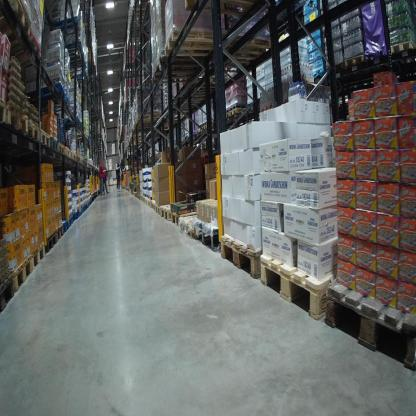pallet: (324, 268, 415, 373), (259, 246, 334, 322), (213, 29, 283, 66), (219, 232, 263, 282), (164, 27, 222, 62), (156, 49, 223, 76), (2, 0, 35, 45), (194, 219, 228, 256), (180, 1, 258, 17), (147, 64, 203, 84), (8, 37, 44, 67), (27, 80, 65, 107), (10, 256, 34, 297), (7, 102, 30, 141), (49, 13, 84, 38), (390, 37, 415, 67), (367, 43, 393, 71), (38, 94, 70, 115), (325, 58, 347, 83), (1, 273, 15, 312), (171, 208, 197, 229), (343, 53, 366, 76), (29, 241, 46, 272), (180, 212, 198, 238), (307, 66, 325, 88), (134, 113, 164, 126), (160, 201, 177, 222), (229, 106, 251, 122), (28, 116, 39, 145), (44, 232, 58, 254), (39, 126, 51, 151), (62, 117, 83, 130), (64, 42, 83, 54), (1, 95, 8, 127), (54, 224, 64, 244), (70, 53, 89, 62), (69, 63, 87, 72), (75, 73, 89, 84), (50, 134, 58, 152), (57, 140, 65, 158), (154, 200, 162, 217), (61, 219, 69, 233), (77, 132, 88, 141), (64, 144, 70, 159), (68, 148, 74, 161), (224, 110, 230, 122), (67, 217, 73, 228), (73, 150, 77, 162), (204, 124, 208, 131), (200, 126, 204, 133), (198, 127, 202, 134), (194, 130, 198, 135)
pallet_truck: (117, 160, 130, 190)
